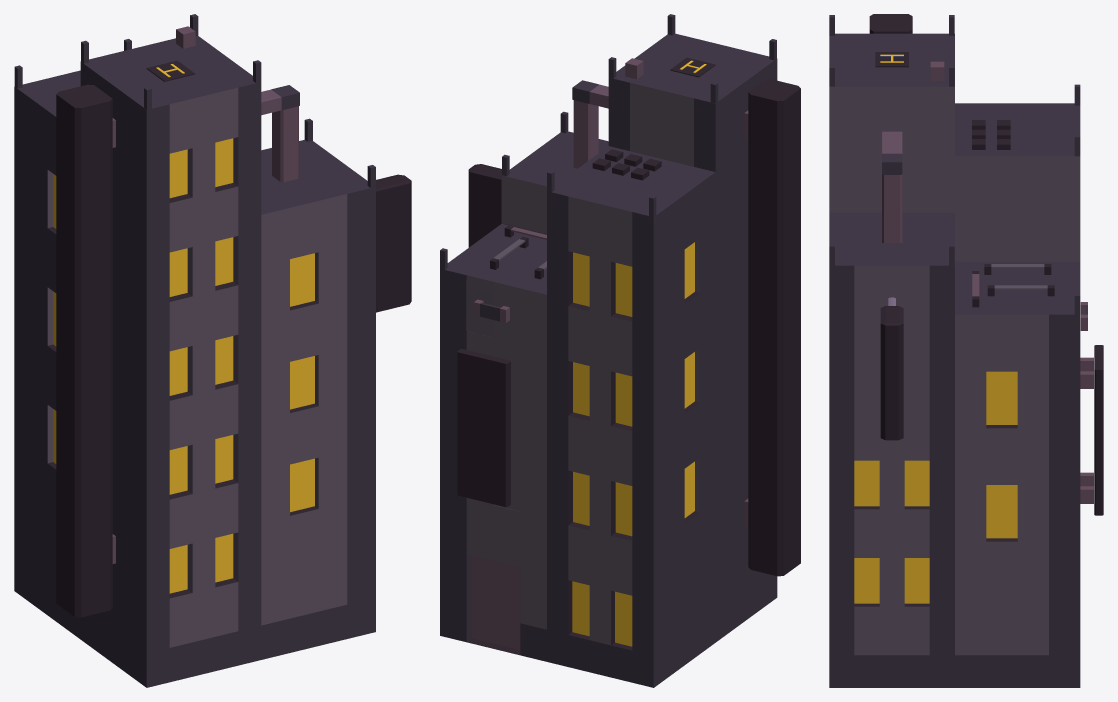
The model's file is MainTower.fbx.
3 views of the same model, side by side, from view 1: azimuth 30°, elevation 25°; view 2: azimuth 150°, elevation 25°; view 3: azimuth 270°, elevation 25° (orthographic). The views are drawn at different scales.
Visible parts, largest first — view 1: TownHall; view 2: TownHall; view 3: TownHall.
Part boxes in pixels (left/top/right/bottom): TownHall: left=14, top=14, right=411, bottom=687; TownHall: left=440, top=14, right=800, bottom=687; TownHall: left=829, top=14, right=1103, bottom=687.
Bounding box in the file's own units: 164 × 273 × 120.
